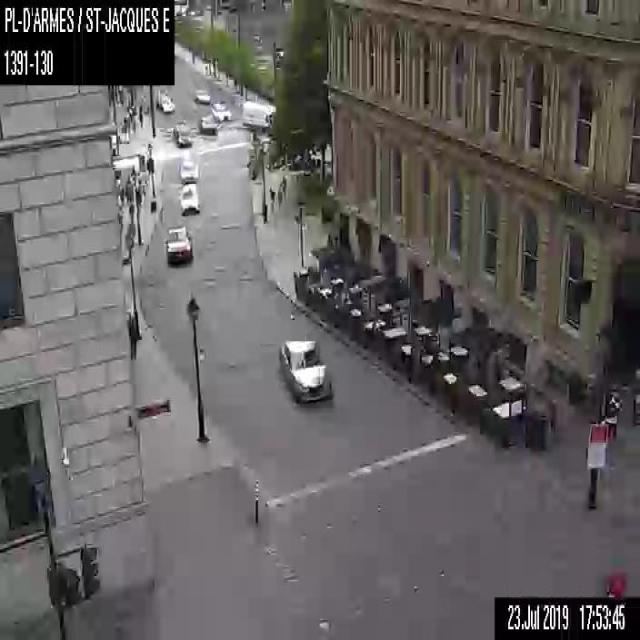pedestrian: (128, 309, 137, 362), (124, 172, 134, 205), (269, 184, 276, 208), (281, 175, 287, 198), (277, 186, 282, 209), (138, 104, 142, 125)
vehicle: (277, 337, 335, 404), (164, 225, 191, 264), (241, 101, 277, 128), (180, 182, 200, 215), (172, 118, 193, 146), (154, 87, 174, 113), (178, 160, 198, 182), (210, 102, 232, 122), (198, 114, 216, 135), (194, 89, 210, 105)
